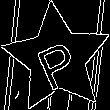P_NW: (30, 28, 84, 89)
